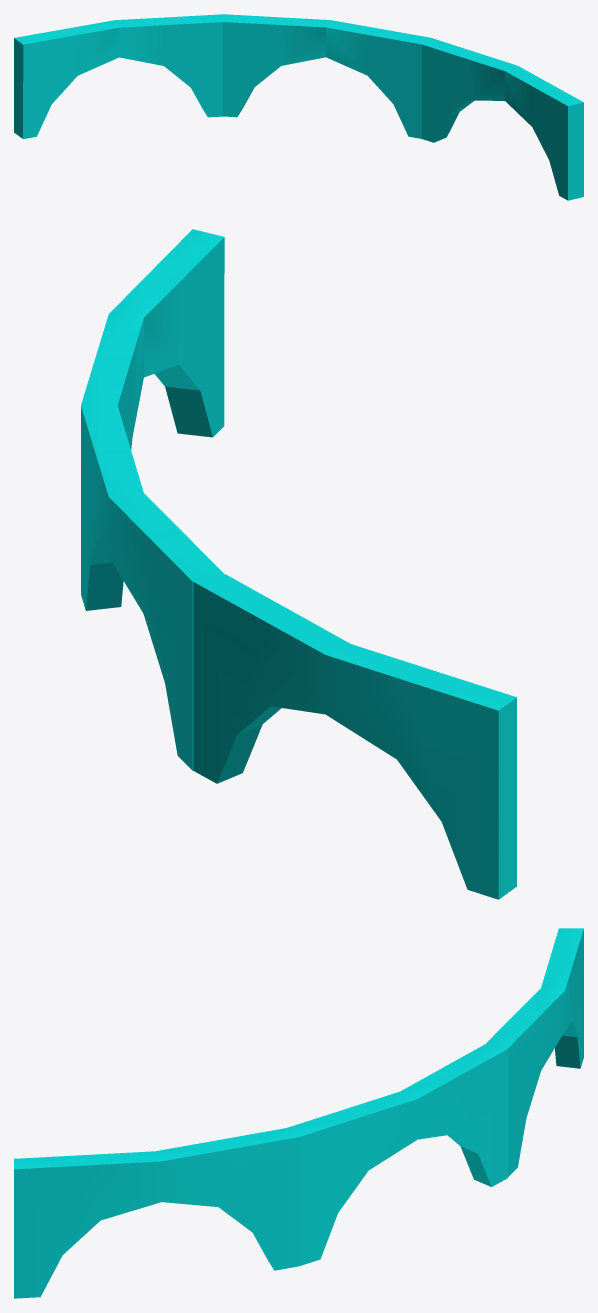
File: SM_Bld_Wall_Curved_Large_Arch_01_Collision.fbx
3 views of the same model, one above another, from view 1: azimuth 30°, elevation 25°; view 2: azimuth 150°, elevation 25°; view 3: azimuth 270°, elevation 25° (orthographic). The views are drawn at different scales.
Visible parts, largest first — view 1: SM_Bld_Wall_Curved_Large_Arch_01_Collision; view 2: SM_Bld_Wall_Curved_Large_Arch_01_Collision; view 3: SM_Bld_Wall_Curved_Large_Arch_01_Collision.
Boxes of the visible parts, x1,y1,x2,y2 form: SM_Bld_Wall_Curved_Large_Arch_01_Collision: (14,14,583,200); SM_Bld_Wall_Curved_Large_Arch_01_Collision: (81,229,516,899); SM_Bld_Wall_Curved_Large_Arch_01_Collision: (14,928,583,1298).
Size of the model in its own units: 511 by 128 by 511.
